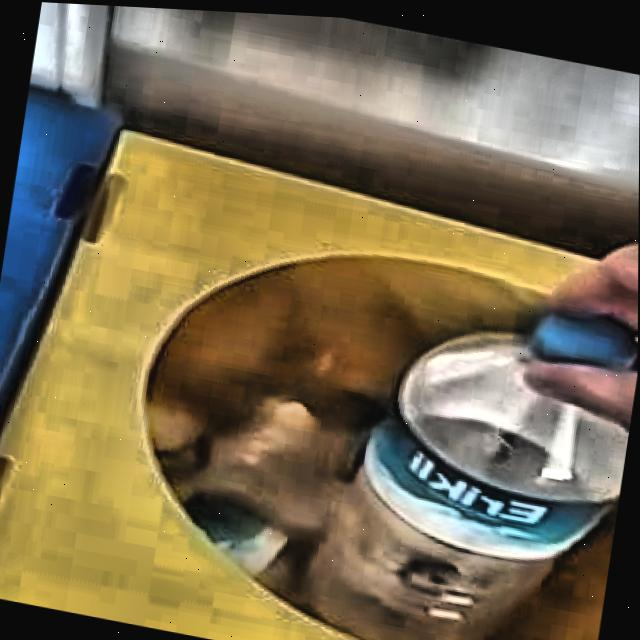plastic: (299, 305, 638, 640)
